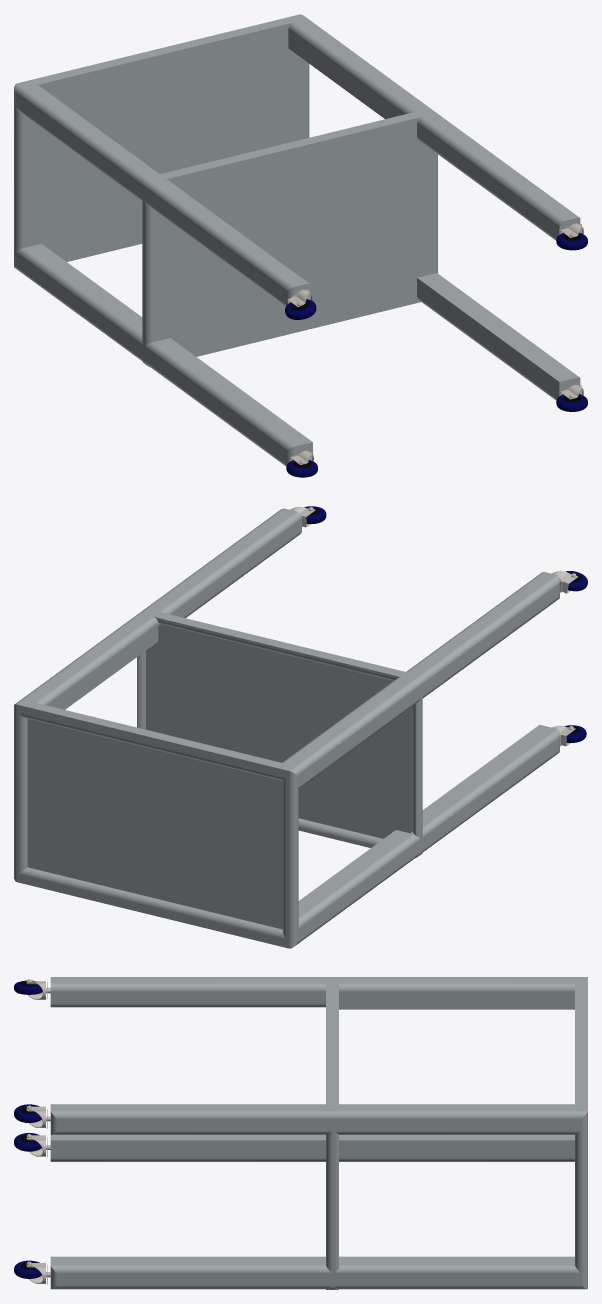
The model's file is mesa.fbx.
3 views of the same model, one above another, from view 1: azimuth 30°, elevation 25°; view 2: azimuth 150°, elevation 25°; view 3: azimuth 270°, elevation 25° (orthographic). The views are drawn at different scales.
Parts seen in each view (by area): view 1: Cut-Extrude3, Fillet13 (×4); view 2: Cut-Extrude3, Fillet13; view 3: Cut-Extrude3, Fillet13 (×4).
Boxes of the visible parts, bbox=[...] form: Cut-Extrude3: bbox=[14, 14, 580, 466]; Fillet13 (×4): bbox=[285, 223, 587, 477]; Cut-Extrude3: bbox=[14, 508, 559, 948]; Fillet13: bbox=[552, 571, 587, 593]; Cut-Extrude3: bbox=[50, 977, 587, 1289]; Fillet13 (×4): bbox=[14, 979, 50, 1284].
Size of the model in its own units: 20.58 by 11.86 by 34.49.
